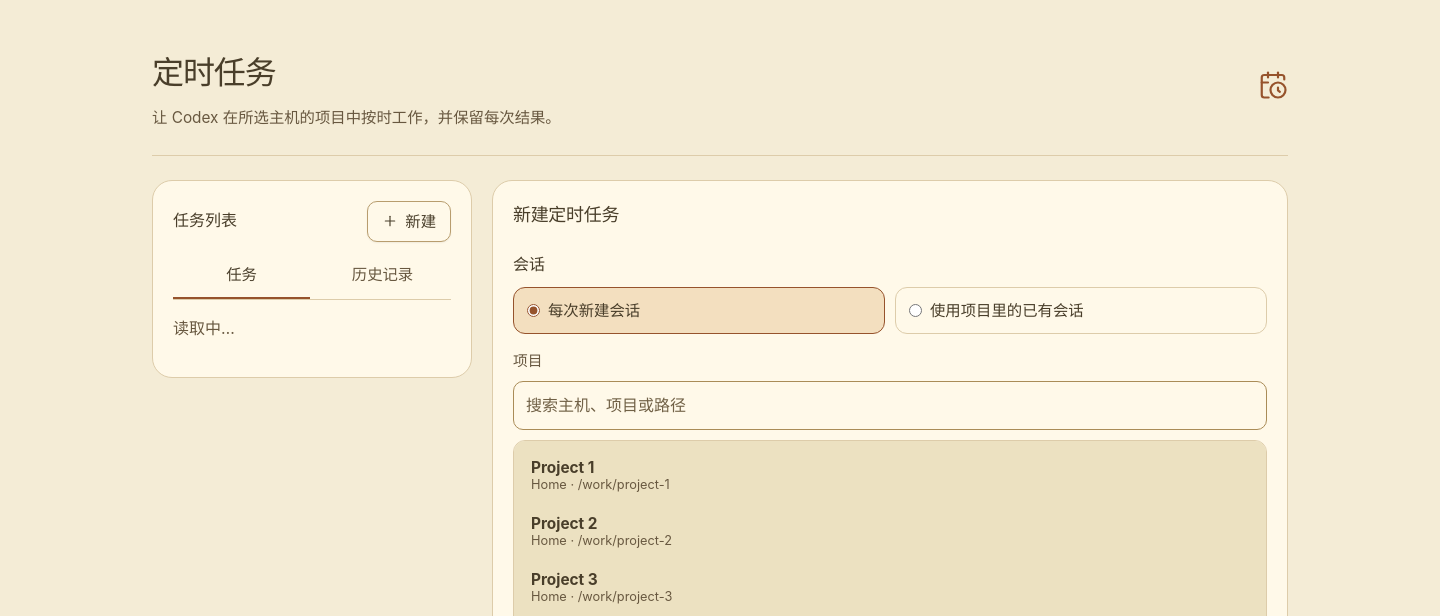
Test case: searches host, project, and path before choosing a project for a new session
Type "blog" into the search field named "搜索项目" at coordinates (890, 406), box [513,381,1267,430]
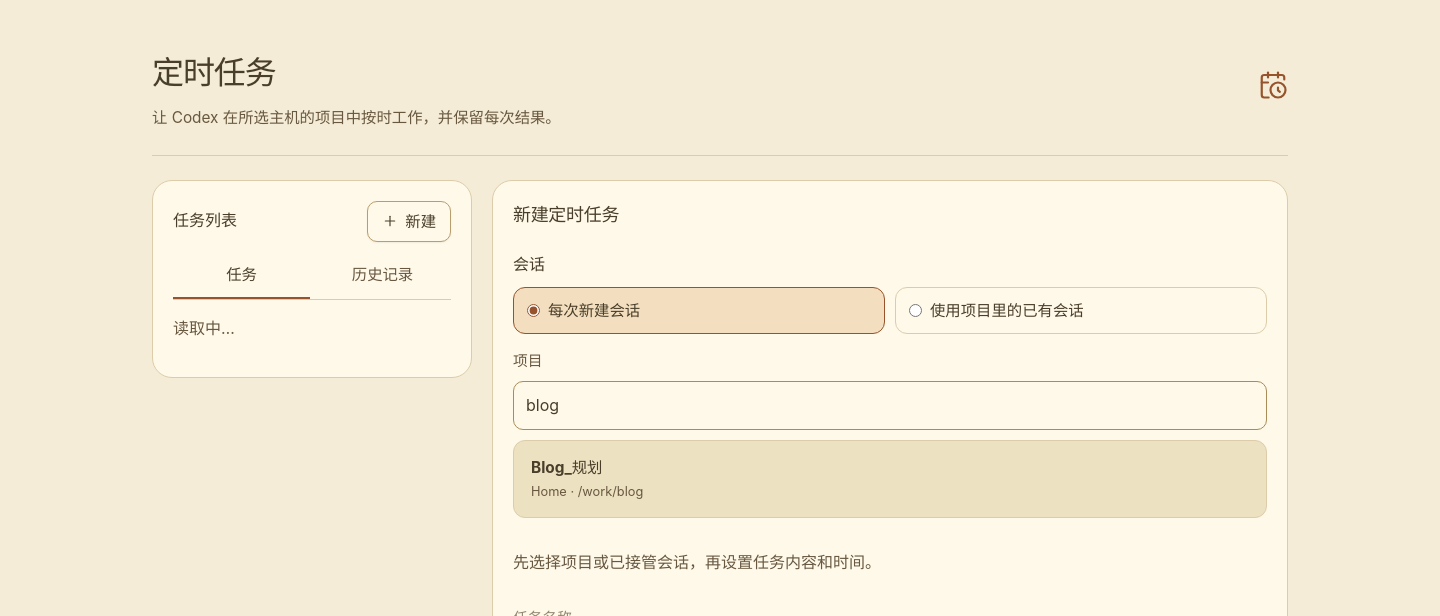
Check: the number of options is 1
Click the option "Blog_规划 Home · /work/blog" at coordinates (567, 468), box [520,447,1260,510]
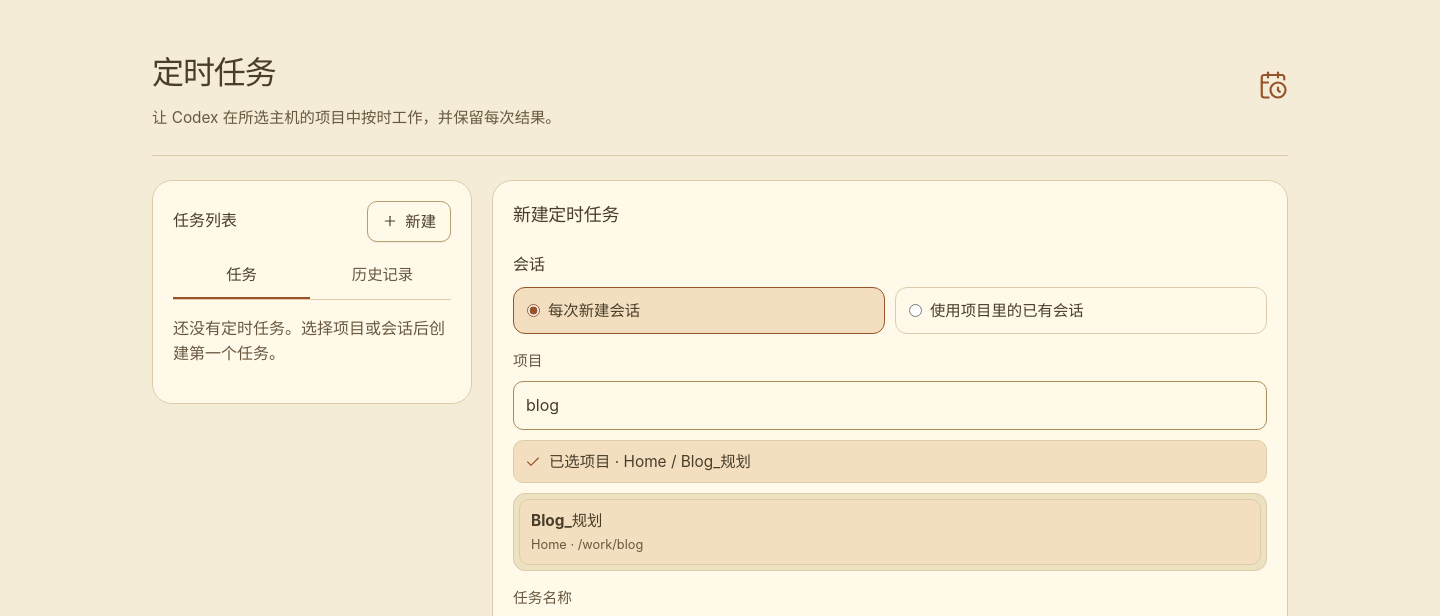
Check: the text "已选项目 · Home / Blog_规划" is shown, box [549,450,751,473]
